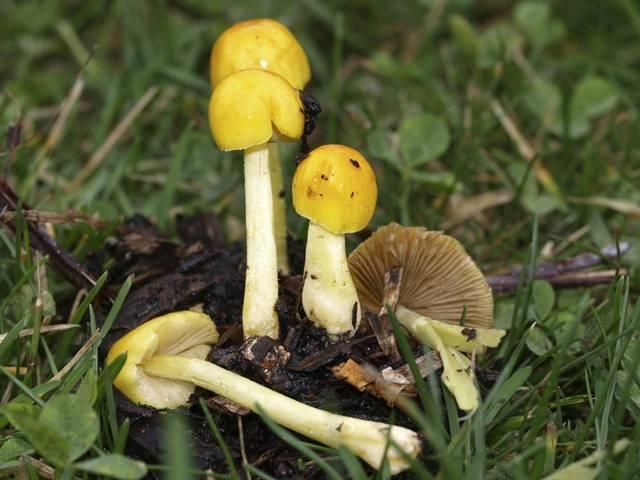Edible Mushroom: (203, 10, 322, 208), (358, 215, 501, 351), (97, 301, 251, 418), (290, 142, 378, 342)
